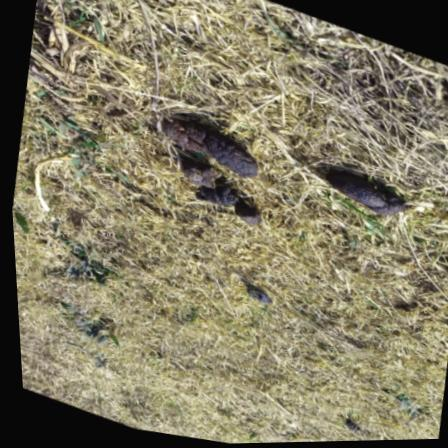dog-poop: (147, 107, 281, 246), (310, 159, 412, 229)
